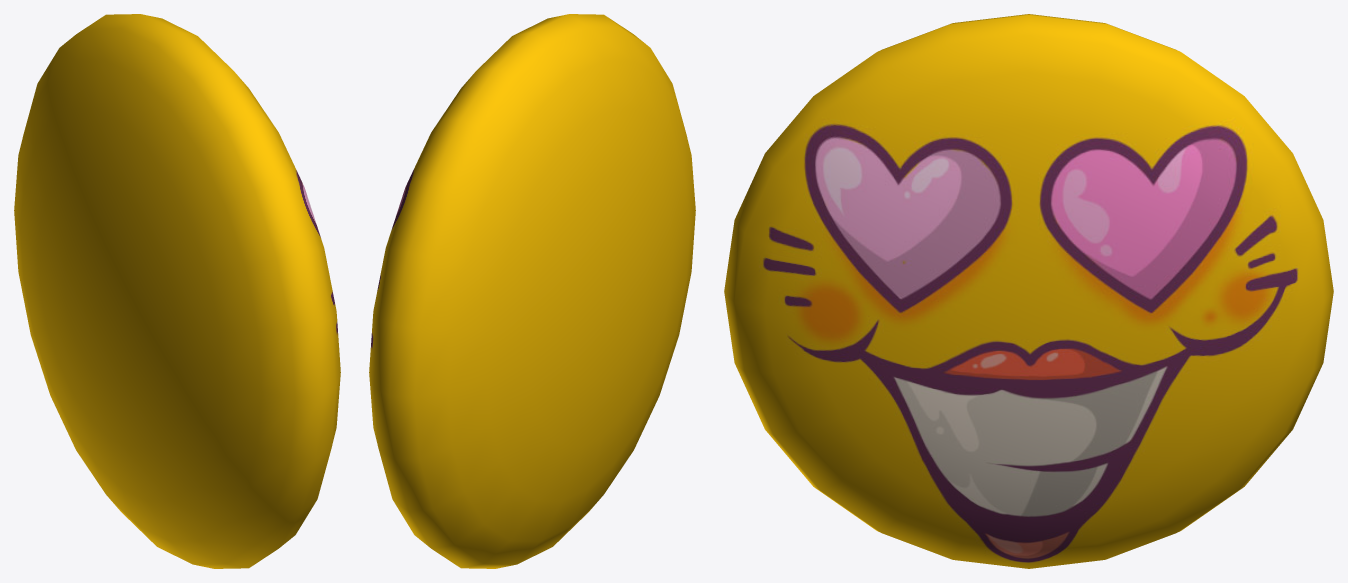
The model's file is smile2.DAE.
3 renders of one model, left to right at view 1: azimuth 30°, elevation 25°; view 2: azimuth 150°, elevation 25°; view 3: azimuth 270°, elevation 25°, orthographic. The views are drawn at different scales.
Visible parts, largest first — view 1: Sphere01_PIVOT; view 2: Sphere01_PIVOT; view 3: Sphere01_PIVOT.
Boxes of the visible parts, x1,y1,x2,y2 form: Sphere01_PIVOT: (14,14,340,568); Sphere01_PIVOT: (369,14,695,568); Sphere01_PIVOT: (724,14,1333,568).
Size of the model in its own units: 55.57 by 174 by 174.
1 material, 1 textured.
